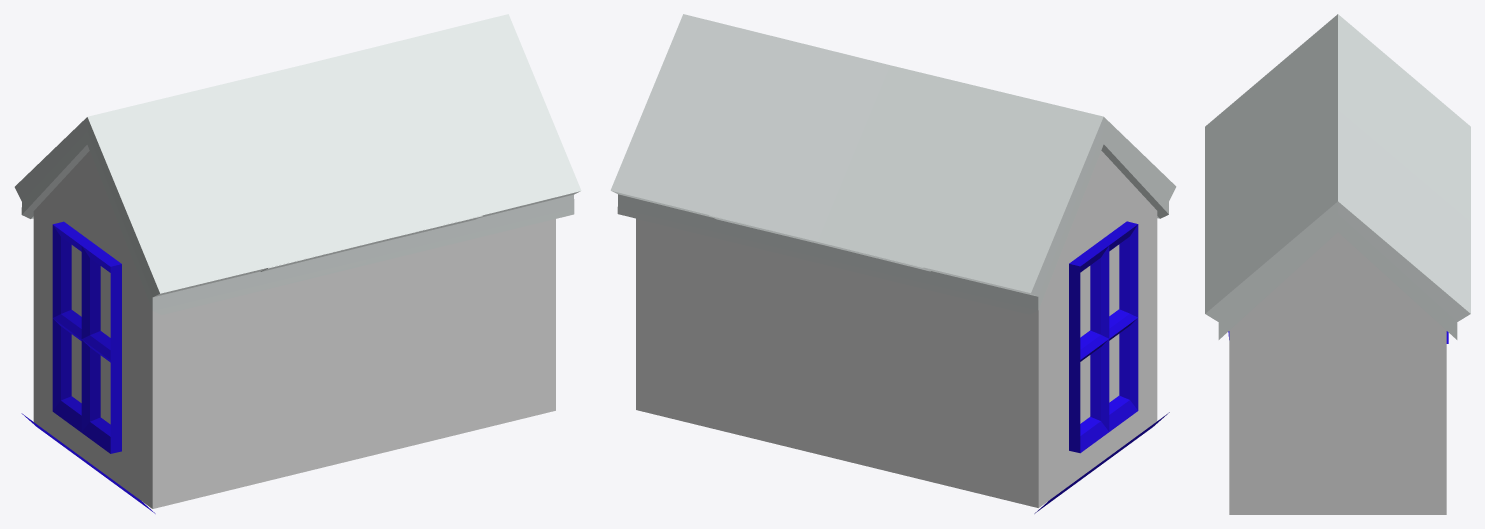
Rendered from Roof window 1.fbx.
The picture shows the model from 3 angles, left to right: view 1: azimuth 30°, elevation 25°; view 2: azimuth 150°, elevation 25°; view 3: azimuth 270°, elevation 25°; orthographic projection. The views are drawn at different scales.
Parts seen in each view (by area): view 1: Cube, Roof top window piece 01.005, Roof top window piece 01.002; view 2: Cube, Roof top window piece 01.005, Roof top window piece 01.002; view 3: Roof top window piece 01.005, Cube.
Boxes of the visible parts, x1,y1,x2,y2 form: Cube: (33, 151, 555, 508); Roof top window piece 01.005: (14, 14, 581, 314); Roof top window piece 01.002: (52, 221, 121, 453); Cube: (636, 151, 1157, 507); Roof top window piece 01.005: (610, 14, 1176, 314); Roof top window piece 01.002: (1069, 221, 1138, 453); Roof top window piece 01.005: (1205, 14, 1470, 339); Cube: (1229, 232, 1446, 514).
Bounding box in the file's own units: 415 × 331 × 245.
